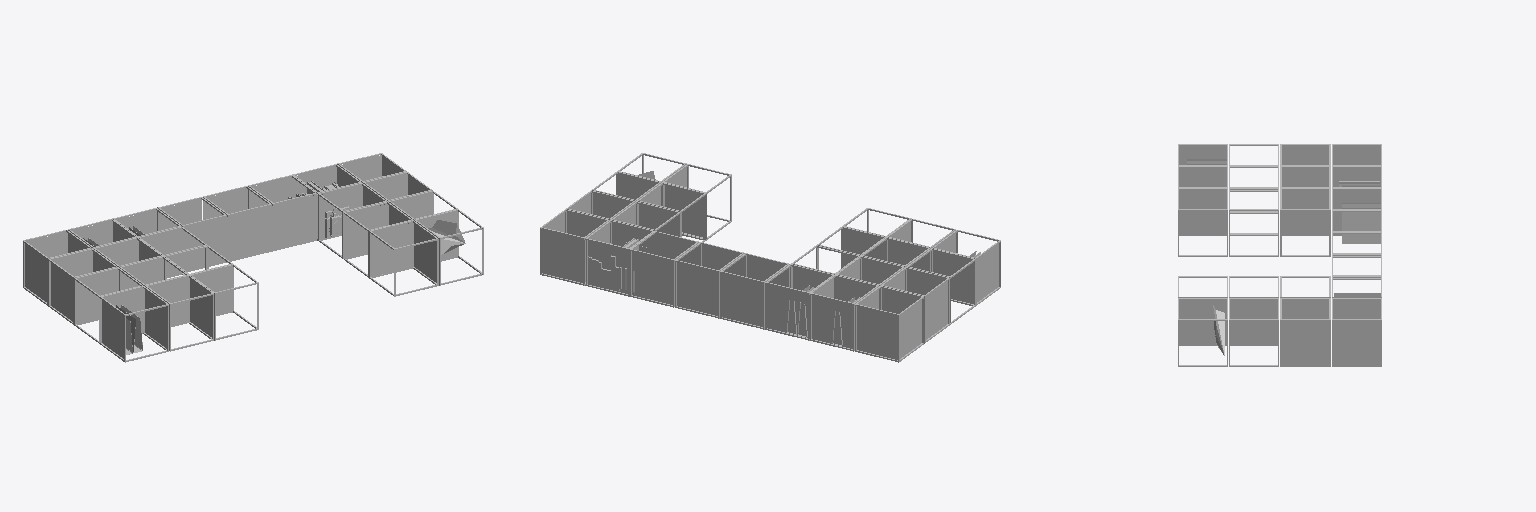
The model's file is norway.obj.
3 renders of one model, left to right at view 1: azimuth 30°, elevation 25°; view 2: azimuth 150°, elevation 25°; view 3: azimuth 270°, elevation 25°, orthographic.
Visible parts, largest first — view 1: <STL_BINARY>; view 2: <STL_BINARY>; view 3: <STL_BINARY>.
Boxes of the visible parts, box(x1,y1,x2,y2) form: <STL_BINARY>: box(23, 153, 483, 362); <STL_BINARY>: box(540, 153, 1000, 362); <STL_BINARY>: box(1178, 144, 1381, 366).
Size of the model in its own units: 130 by 16.93 by 63.44.